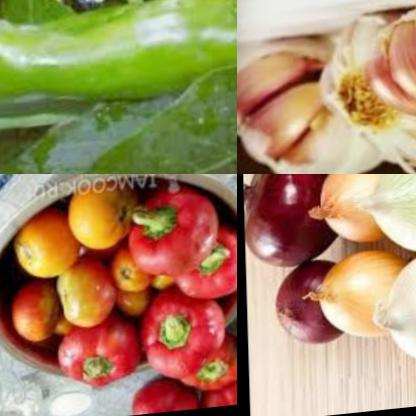bell pepper: (139, 286, 227, 390), (129, 200, 228, 289), (58, 314, 142, 399), (173, 237, 237, 311), (124, 377, 212, 416), (178, 351, 237, 405), (192, 383, 237, 416)
garlic: (237, 25, 380, 174), (320, 13, 416, 174), (359, 0, 416, 174)
hot pepper: (0, 0, 237, 145)
onion: (240, 174, 340, 271), (303, 253, 404, 349), (305, 174, 398, 255), (268, 262, 346, 351), (371, 251, 416, 377), (356, 174, 416, 264)
tomato: (47, 259, 153, 332), (57, 183, 136, 260), (12, 213, 81, 290), (5, 286, 61, 358)
